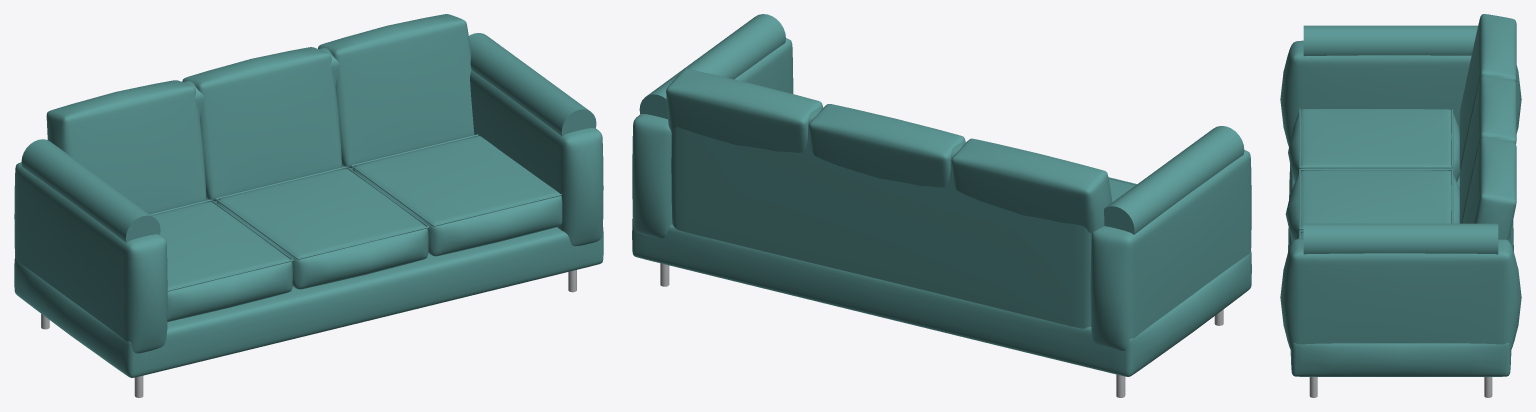
File: ref_sofa.fbx
The picture shows the model from 3 angles, left to right: view 1: azimuth 30°, elevation 25°; view 2: azimuth 150°, elevation 25°; view 3: azimuth 270°, elevation 25°; orthographic projection. The views are drawn at different scales.
Visible parts, largest first — view 1: EQ_ref_sofa_M_SofaFabric, EQ_ref_sofa_M_SofaLeg; view 2: EQ_ref_sofa_M_SofaFabric, EQ_ref_sofa_M_SofaLeg; view 3: EQ_ref_sofa_M_SofaFabric, EQ_ref_sofa_M_SofaLeg.
Boxes of the visible parts, x1,y1,x2,y2 form: EQ_ref_sofa_M_SofaFabric: [14, 14, 603, 377]; EQ_ref_sofa_M_SofaLeg: [41, 270, 576, 397]; EQ_ref_sofa_M_SofaFabric: [632, 14, 1251, 376]; EQ_ref_sofa_M_SofaLeg: [660, 263, 1223, 397]; EQ_ref_sofa_M_SofaFabric: [1280, 14, 1521, 376]; EQ_ref_sofa_M_SofaLeg: [1309, 377, 1492, 397].
Size of the model in its own units: 2.11 by 0.8711 by 0.968.
